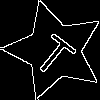T: (29, 25, 84, 80)
